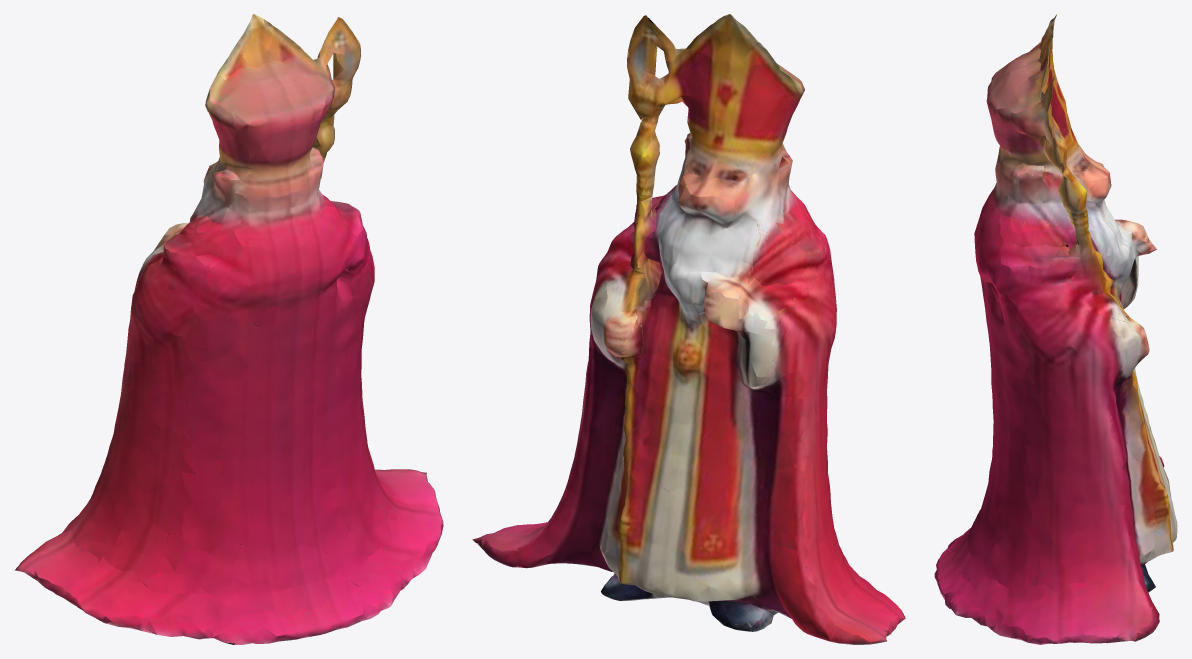
The model's file is bishop.glb.
3 renders of one model, left to right at view 1: azimuth 30°, elevation 25°; view 2: azimuth 150°, elevation 25°; view 3: azimuth 270°, elevation 25°, orthographic. The views are drawn at different scales.
Visible parts, largest first — view 1: world; view 2: world; view 3: world.
Boxes of the visible parts, <box> form: world: <box>15,14,443,644</box>; world: <box>472,14,905,644</box>; world: <box>934,14,1177,644</box>.
Size of the model in its own units: 0.6915 by 0.932 by 0.364.
1 material, 1 textured.
